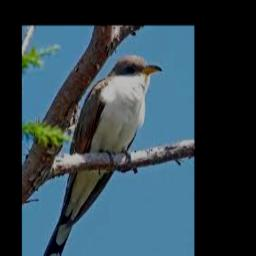Cuckoo: (30, 54, 163, 256)
